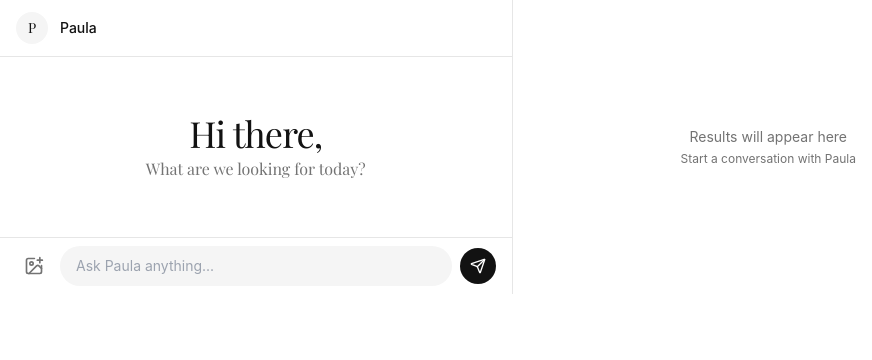
it: SearchPage — wskaźnik pisania › shows the message the user sent regardless
Type "coś na biuro" into the field with placeholder "Ask Paula anything..." at (256,266), box [60,246,452,286]
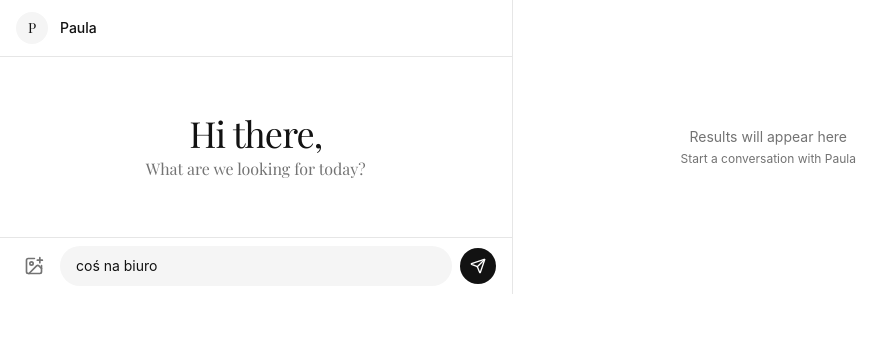
Press Enter in the field with placeholder "Ask Paula anything...", box [60,246,452,286]
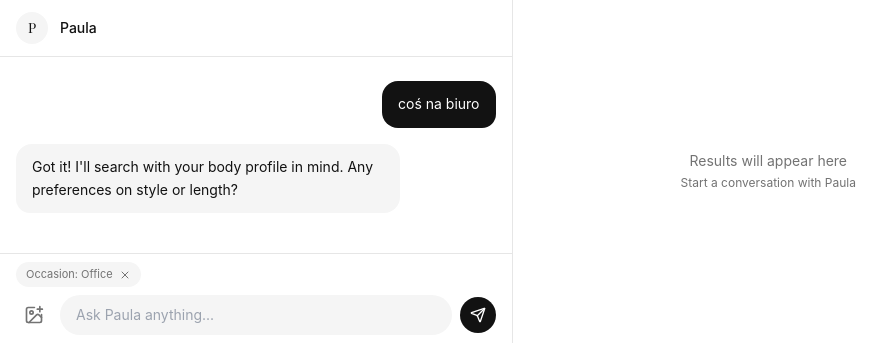
Now the text "coś na biuro" is shown, box [382,81,496,128]
